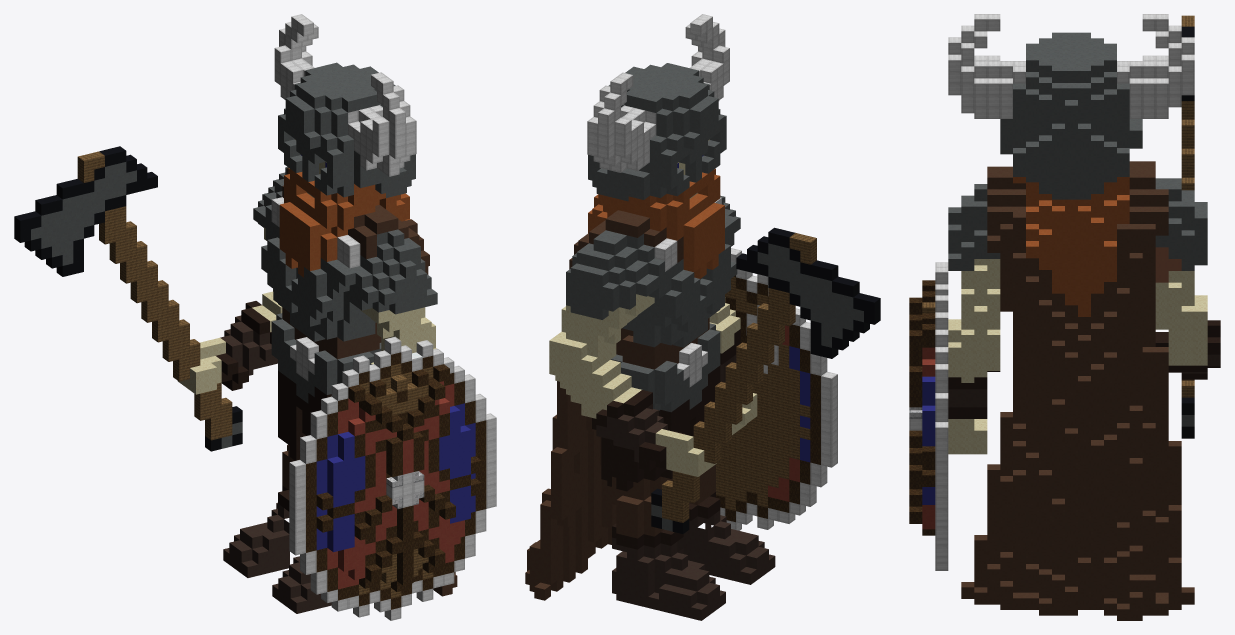
The model's file is Viking.glb.
3 views of the same model, side by side, from view 1: azimuth 30°, elevation 25°; view 2: azimuth 150°, elevation 25°; view 3: azimuth 270°, elevation 25° (orthographic). The views are drawn at different scales.
Visible parts, largest first — view 1: node_3, node_5, node_1, node_12, node_11, node_6, node_13, node_7, node_4, node_2, node_16, node_14 (+4 smaller); view 2: node_4, node_6, node_5, node_3, node_11, node_2, node_12, node_1, node_8, node_7, node_13, node_16 (+3 smaller); view 3: node_5, node_3, node_4, node_1, node_6, node_2, node_7, node_8, node_11.
Boxes of the visible parts, <box> form: node_3: <box>279,168,464,415</box>; node_5: <box>290,345,496,588</box>; node_1: <box>279,64,416,197</box>; node_12: <box>289,409,354,594</box>; node_11: <box>56,163,189,342</box>; node_6: <box>220,301,296,518</box>; node_13: <box>162,335,238,451</box>; node_7: <box>293,556,464,620</box>; node_4: <box>253,167,300,341</box>; node_2: <box>274,14,342,168</box>; node_16: <box>14,195,62,268</box>; node_14: <box>272,562,348,613</box>; node_4: <box>549,175,694,400</box>; node_6: <box>540,368,683,560</box>; node_5: <box>588,309,778,527</box>; node_3: <box>588,168,768,365</box>; node_11: <box>704,245,838,424</box>; node_2: <box>587,72,683,199</box>; node_12: <box>778,322,837,506</box>; node_1: <box>588,14,729,191</box>; node_8: <box>525,525,704,615</box>; node_7: <box>588,484,778,579</box>; node_13: <box>649,417,731,533</box>; node_16: <box>832,276,880,350</box>; node_5: <box>909,314,1103,562</box>; node_3: <box>909,165,1103,369</box>; node_4: <box>1104,161,1207,369</box>; node_1: <box>948,14,1103,175</box>; node_6: <box>1104,320,1220,568</box>; node_2: <box>1104,14,1194,170</box>; node_7: <box>935,552,1103,615</box>; node_8: <box>1104,557,1194,620</box>; node_11: <box>1181,95,1194,190</box>.
Bounding box in the file's own units: 35 × 47 × 24.
Materials: 1 (1 with a texture image).
